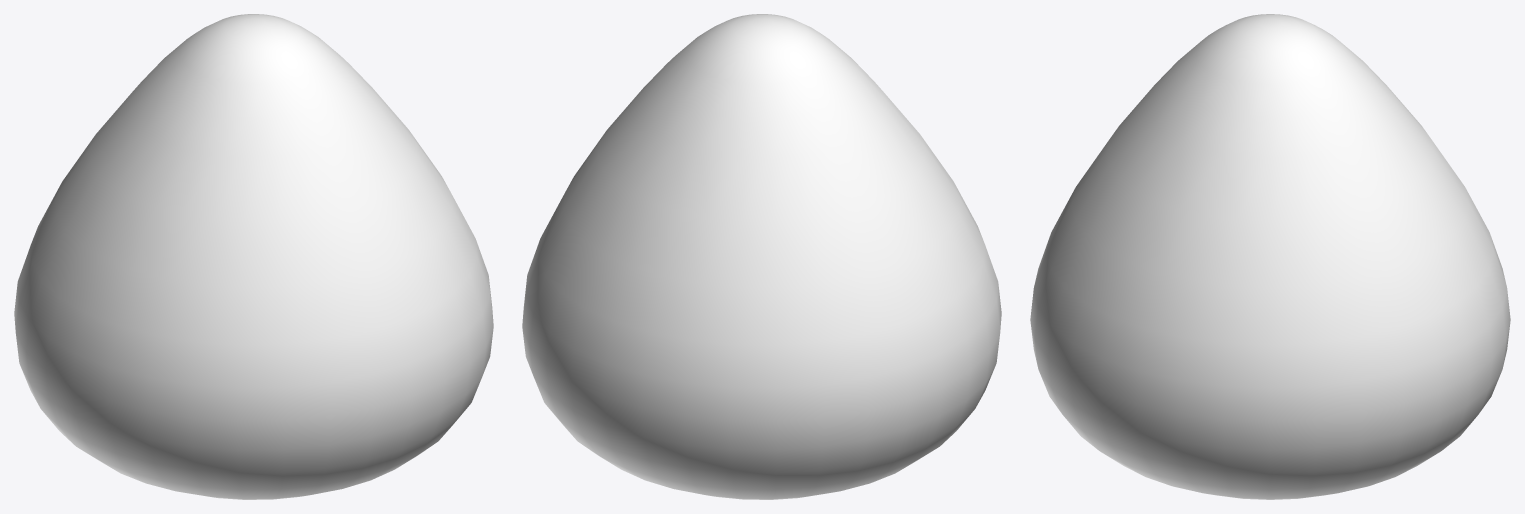
The picture shows the model from 3 angles, left to right: view 1: azimuth 30°, elevation 25°; view 2: azimuth 150°, elevation 25°; view 3: azimuth 270°, elevation 25°; orthographic projection.
Parts seen in each view (by area): view 1: 身体; view 2: 身体; view 3: 身体.
Boxes of the visible parts, left/top/right/bottom form: 身体: left=14, top=14, right=493, bottom=499; 身体: left=522, top=14, right=1001, bottom=499; 身体: left=1030, top=14, right=1510, bottom=499.
Size of the model in its own units: 1 by 1 by 1.
